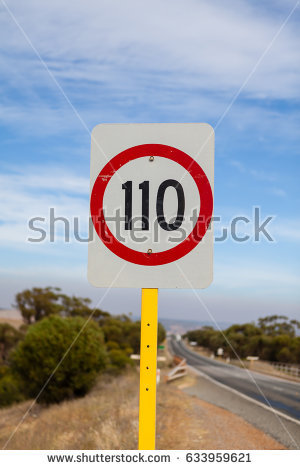Speed_limit_110km: (90, 143, 215, 266)
